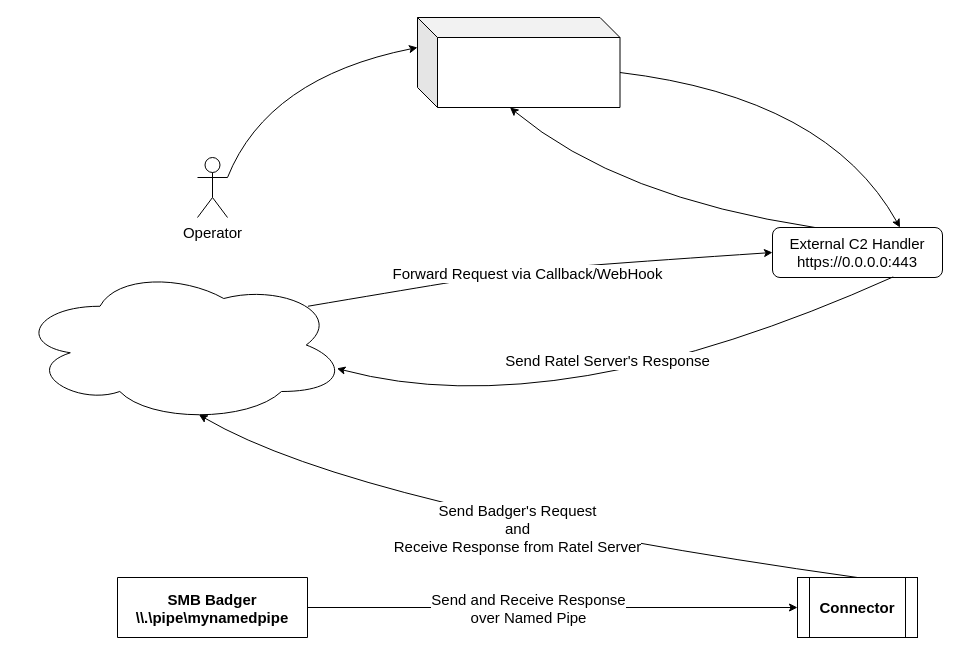
The diagram is 960 pixels wide and 655 high, and some of its shapes have lost their labels. The centre of each missing label's shape, as x and y in pixels:
Brute Ratel Server (AWS/DO/Azure) https://localhost:10443: (x=518, y=62)
External C2 (Ms Teams/Slack/ Dropbox/Google Sheets): (x=182, y=344)
